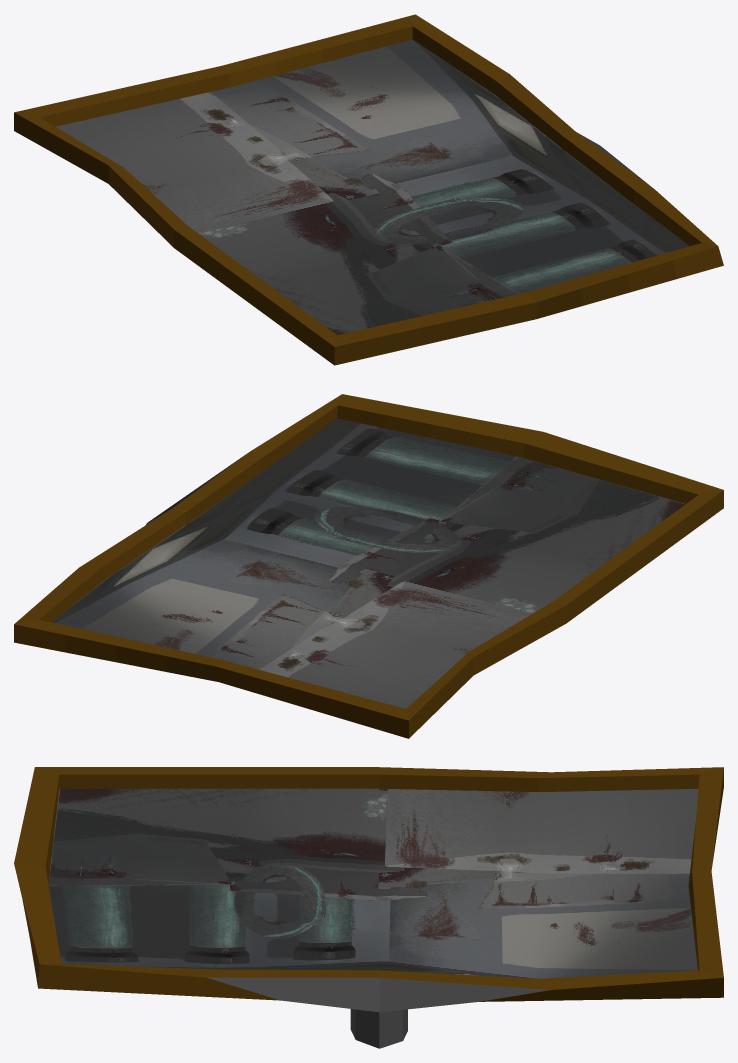
File: Painting.fbx
3 renders of one model, top to bottom at view 1: azimuth 30°, elevation 25°; view 2: azimuth 150°, elevation 25°; view 3: azimuth 270°, elevation 25°, orthographic. The views are drawn at different scales.
Parts seen in each view (by area): view 1: Cube; view 2: Cube; view 3: Cube.
Part boxes in pixels (x1,y1,x2,y2): Cube: (14,14,723,365); Cube: (14,394,723,738); Cube: (14,767,723,1048).
Size of the model in its own units: 902 by 156 by 1210.
3 materials, 1 textured.
